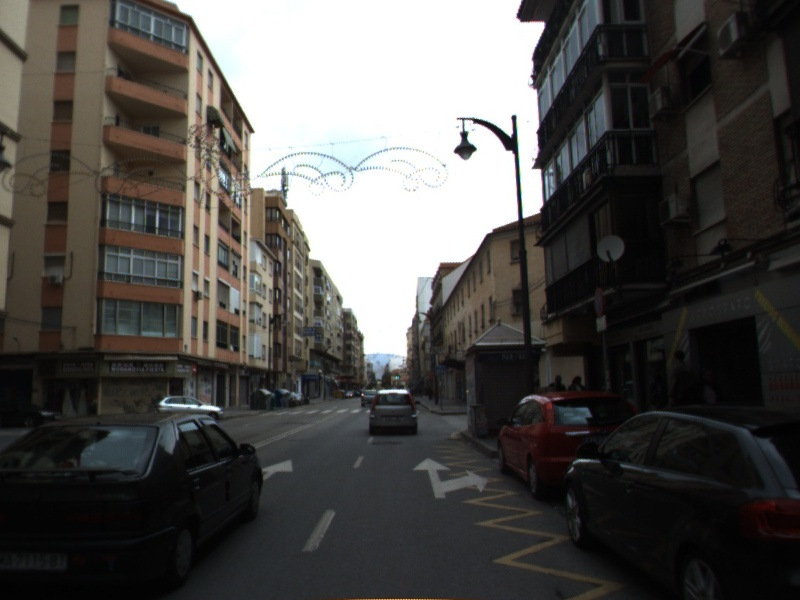STRAIGHT: (260, 458, 294, 479)
STRAIGHT_RIGHT: (410, 455, 490, 500)
